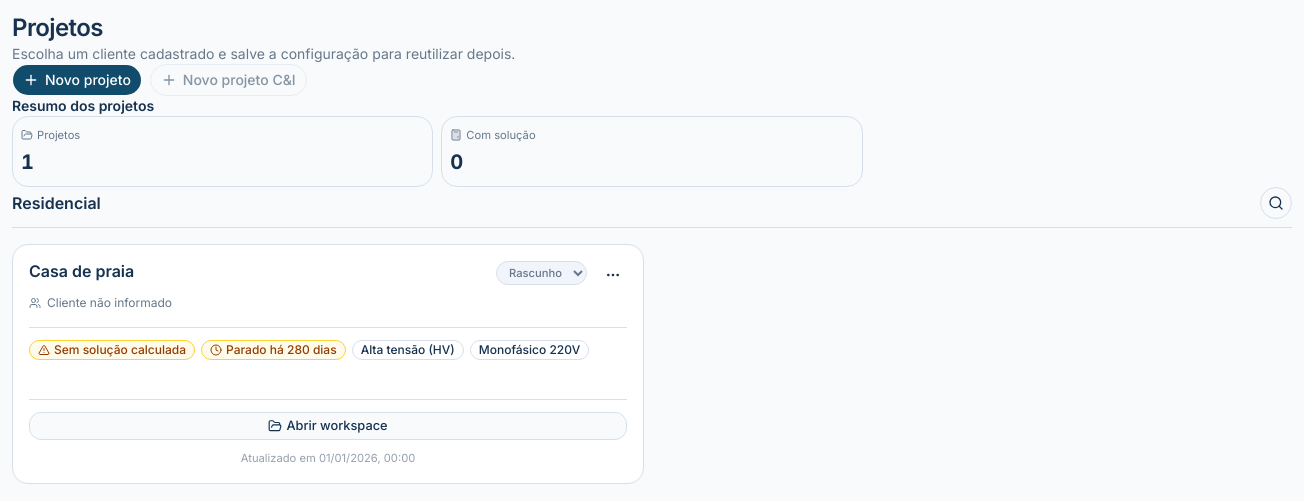
Test case: ProjectTab: empty and list states › shows the remove action on the project card
Step 1. Click the button named "Mais ações para Casa de praia" → coordinates (613, 275), box x1=599 y1=261 x2=627 y2=289
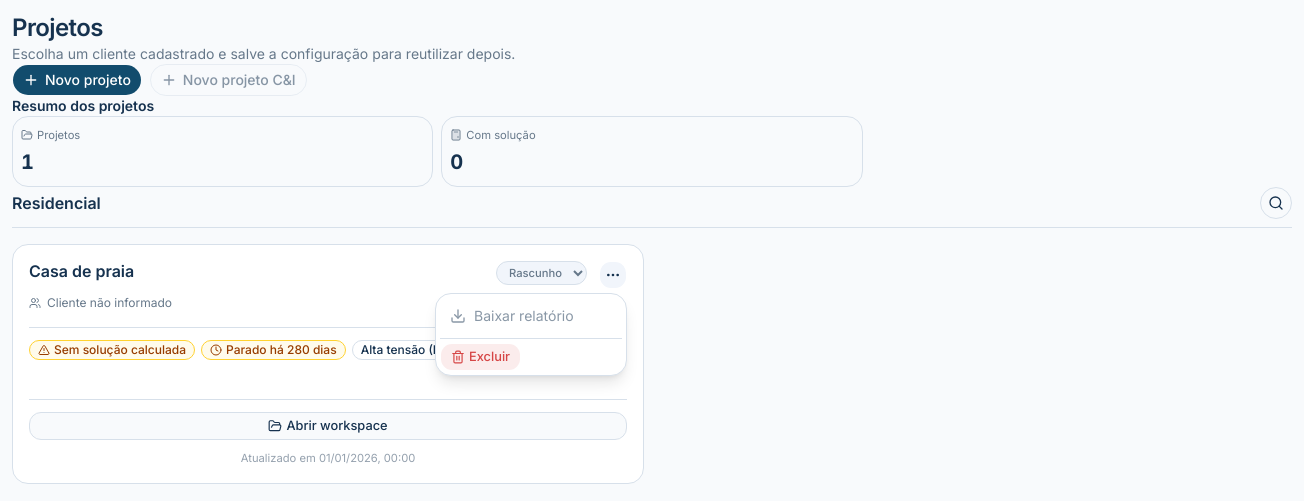
Expected: the button with aria-label "Excluir projeto Casa de praia" is shown, x1=440 y1=343 x2=521 y2=371
